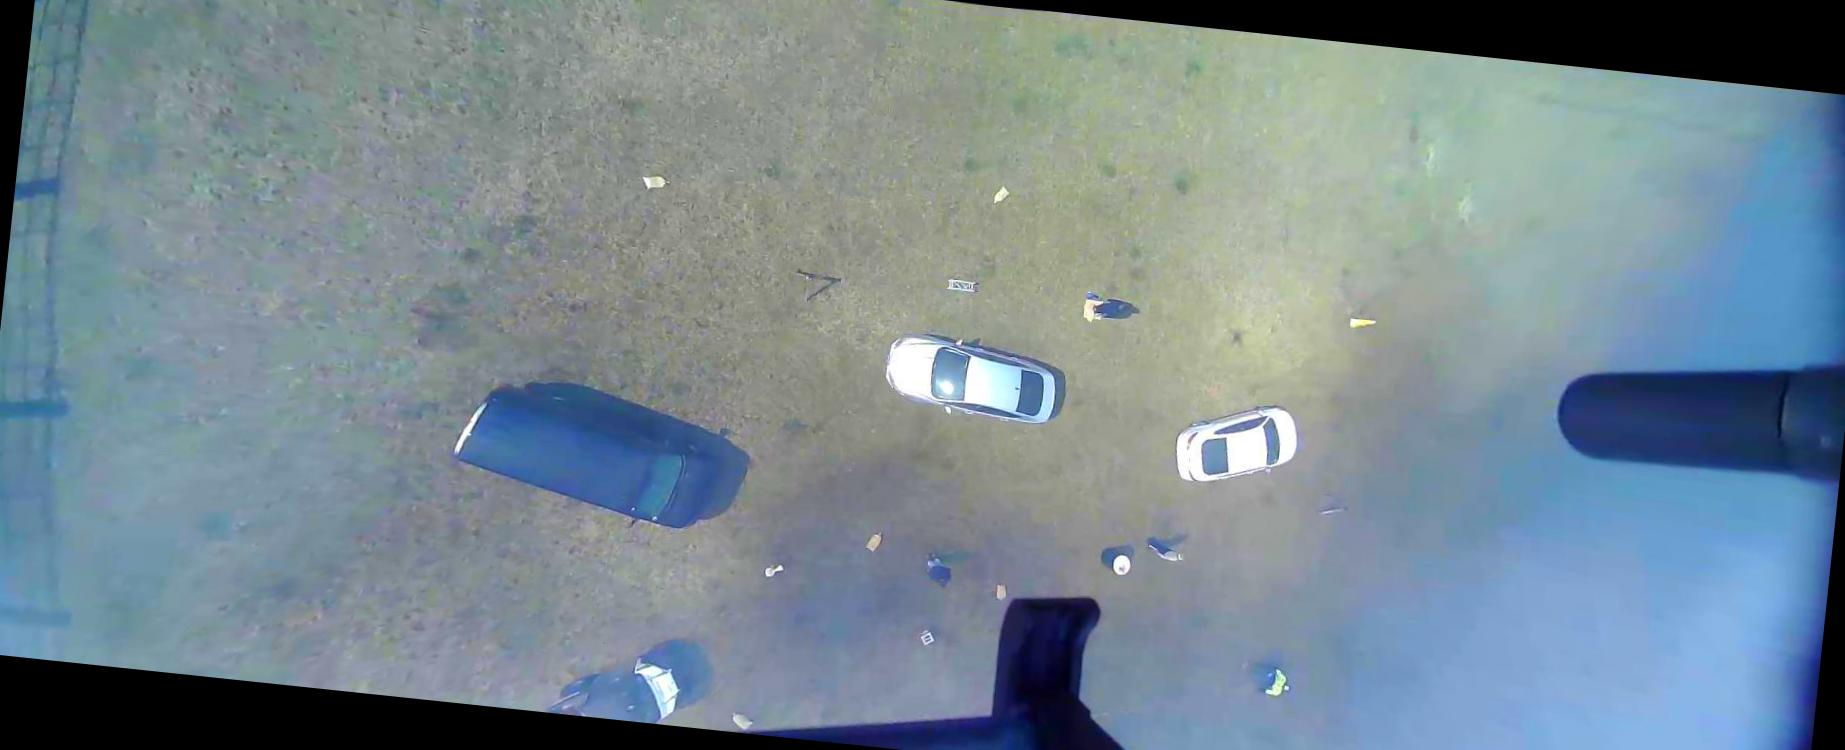vehicle: (444, 380, 724, 536), (878, 328, 1063, 429), (1171, 393, 1304, 494), (543, 644, 685, 726)
